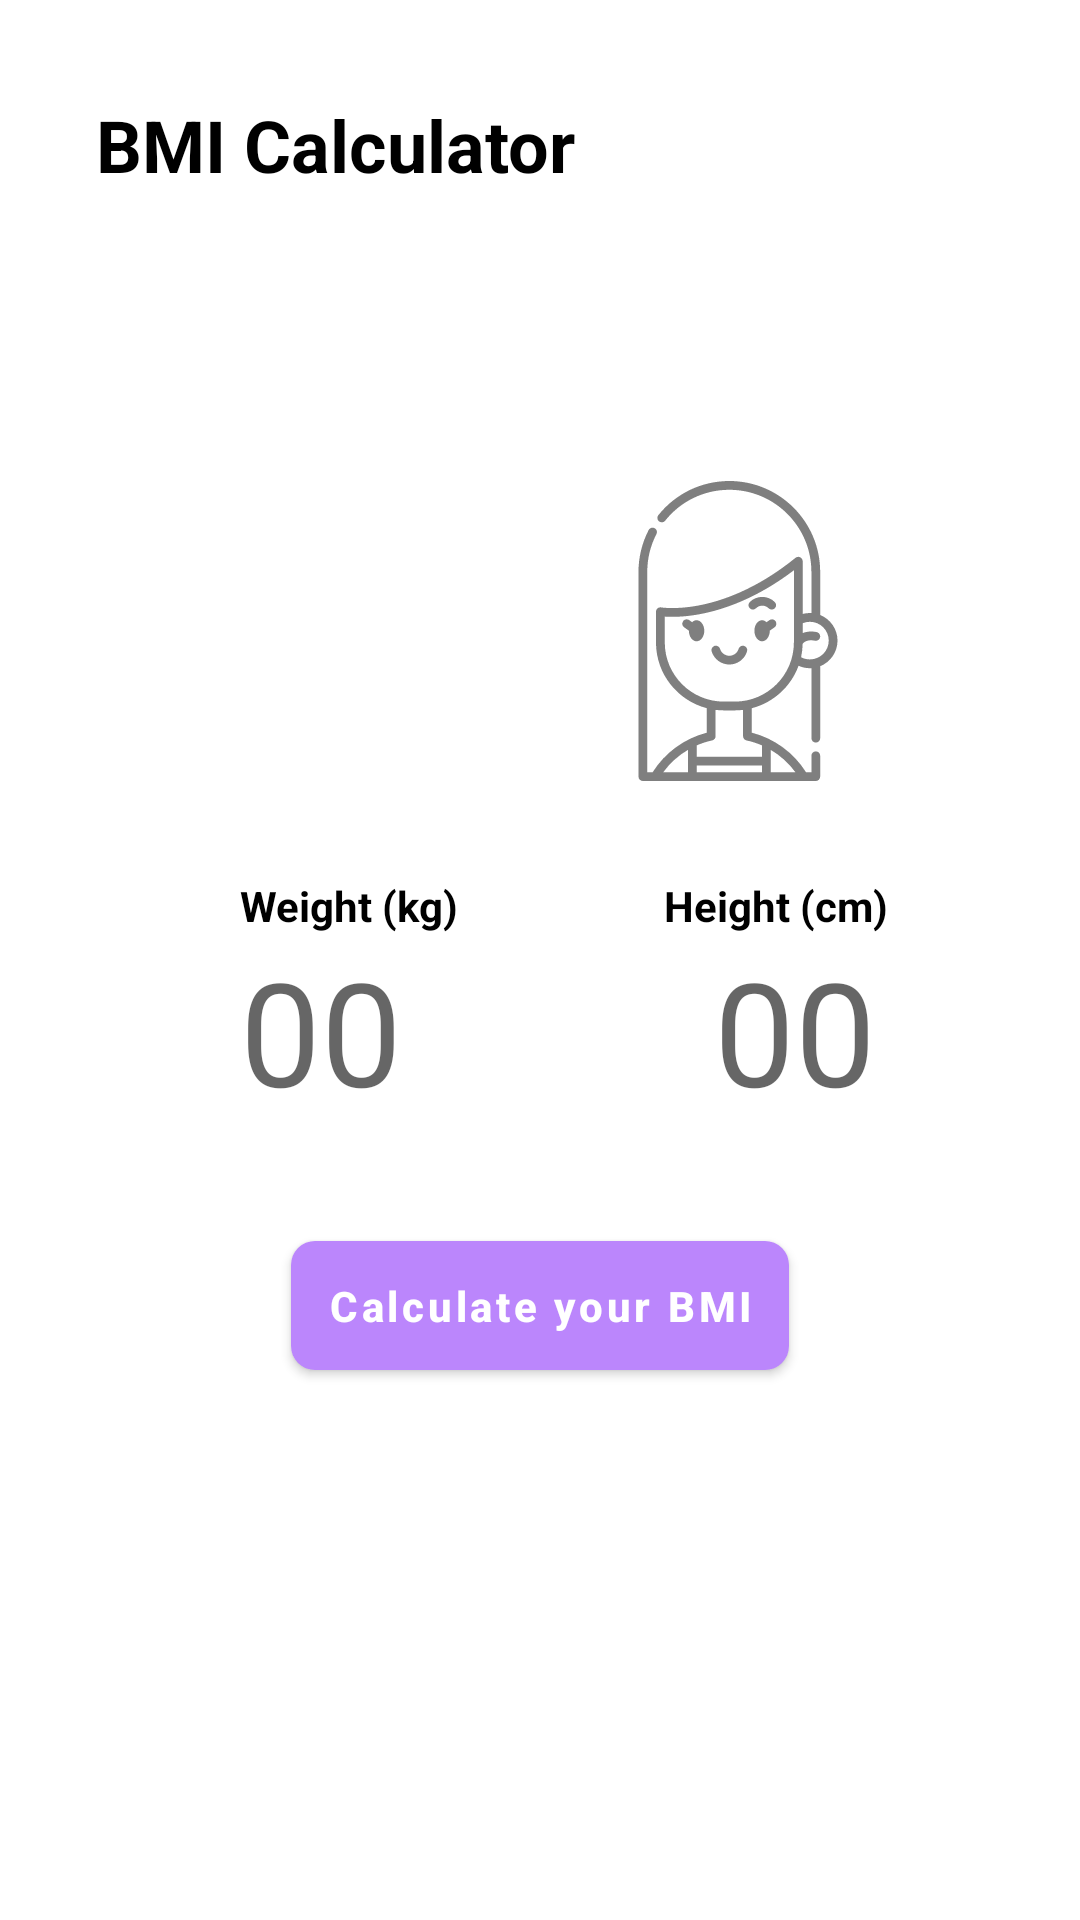

Screen size 1080 x 1920. Icon name, then its center in pixels as (x=x, y=y):
girl blur: (x=738, y=631)
